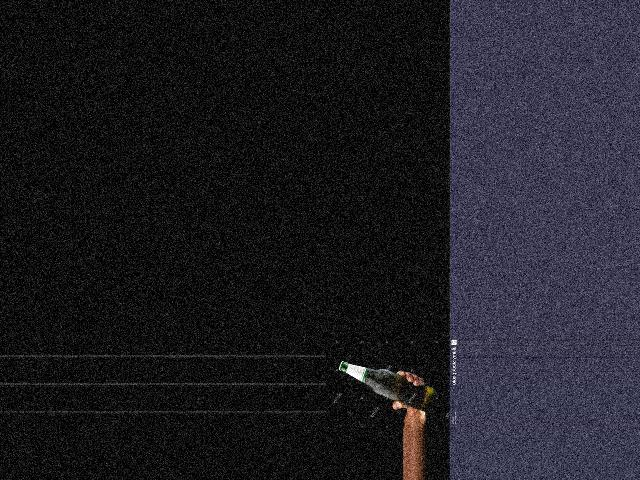beer: (338, 360, 437, 411)
